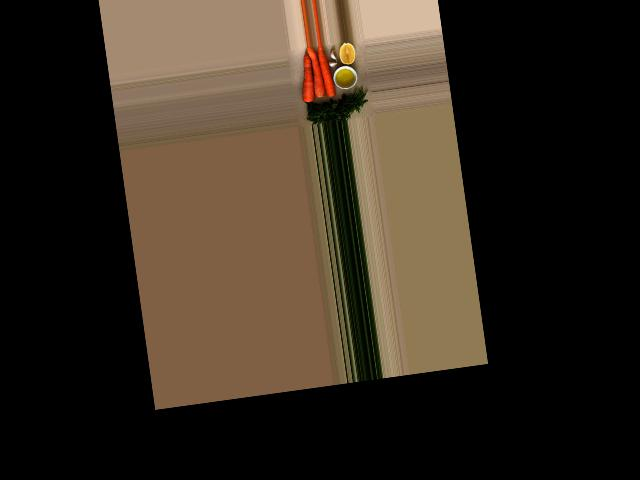carrot: (315, 44, 336, 100)
